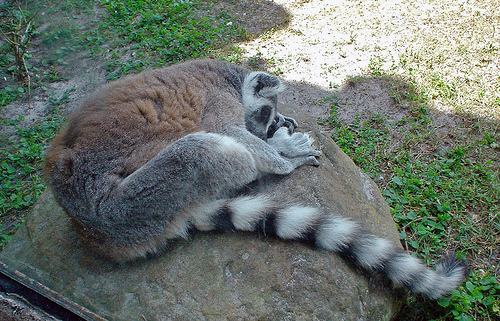cat: (36, 56, 471, 306)
